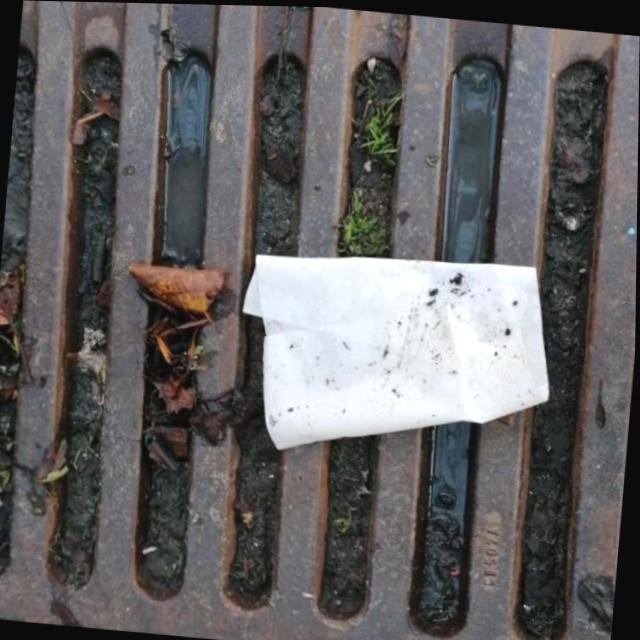Paper: (227, 236, 564, 475)
